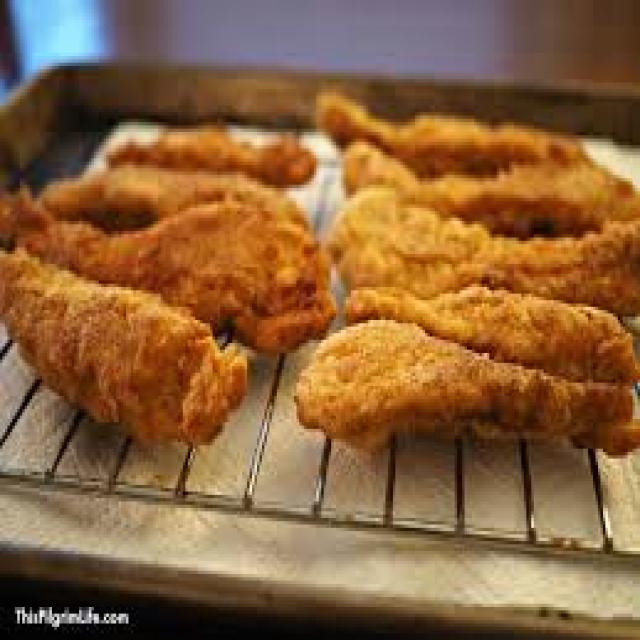Frango: (0, 82, 640, 488)
